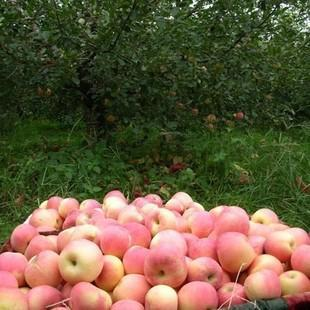apple: (56, 238, 103, 283), (142, 244, 189, 289), (215, 230, 255, 271), (69, 280, 112, 309), (179, 280, 218, 309), (249, 207, 278, 225)
